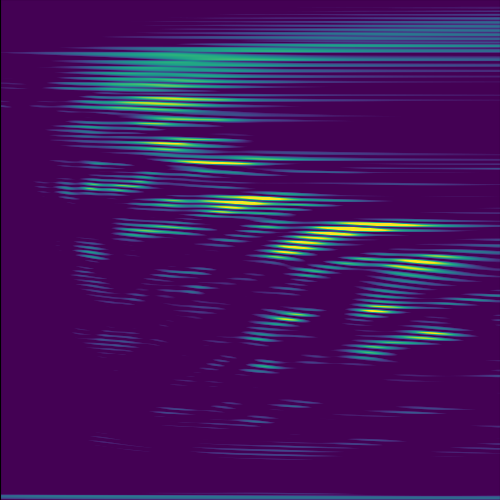semblance: (252, 212, 428, 263), (101, 91, 228, 132), (373, 243, 481, 283), (191, 190, 316, 223), (168, 148, 298, 175), (130, 135, 220, 159)
